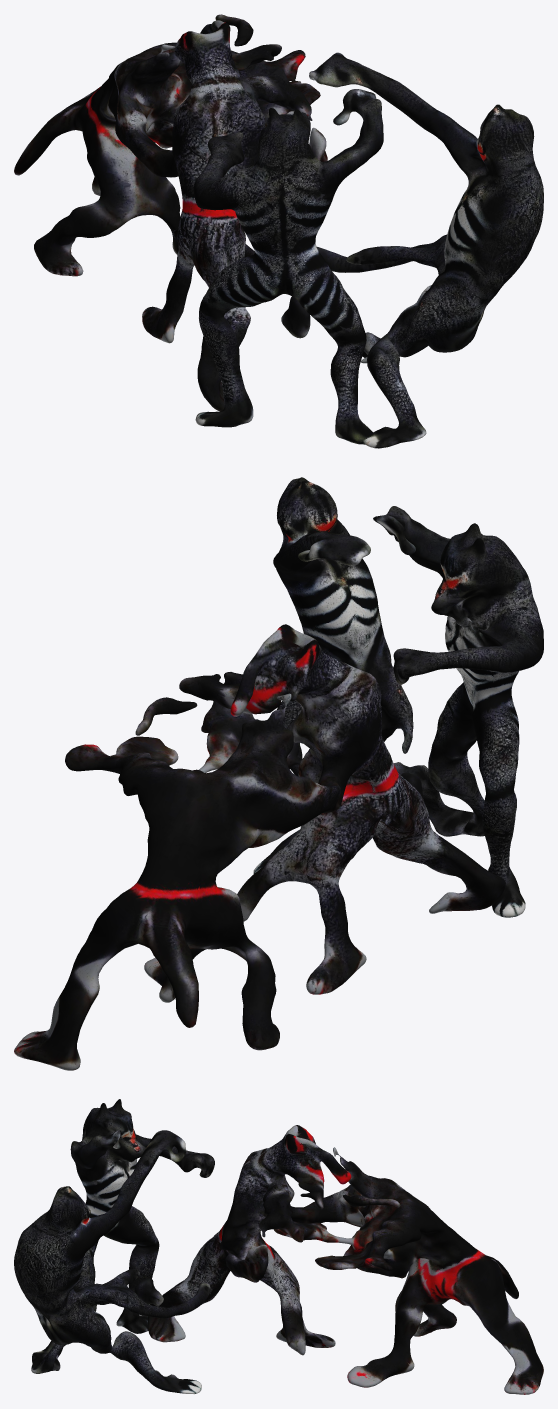
The model's file is peleaDeCriaturas.glb.
3 views of the same model, one above another, from view 1: azimuth 30°, elevation 25°; view 2: azimuth 150°, elevation 25°; view 3: azimuth 270°, elevation 25° (orthographic). The views are drawn at different scales.
Parts seen in each view (by area): view 1: criaturasPeleando; view 2: criaturasPeleando; view 3: criaturasPeleando.
Boxes of the visible parts, x1=… form: criaturasPeleando: x1=14, y1=14, x2=543, y2=448; criaturasPeleando: x1=14, y1=477, x2=543, y2=1070; criaturasPeleando: x1=14, y1=1099, x2=543, y2=1394.
Size of the model in its own units: 0.631 by 0.6884 by 1.34.
2 materials, 2 textured.
